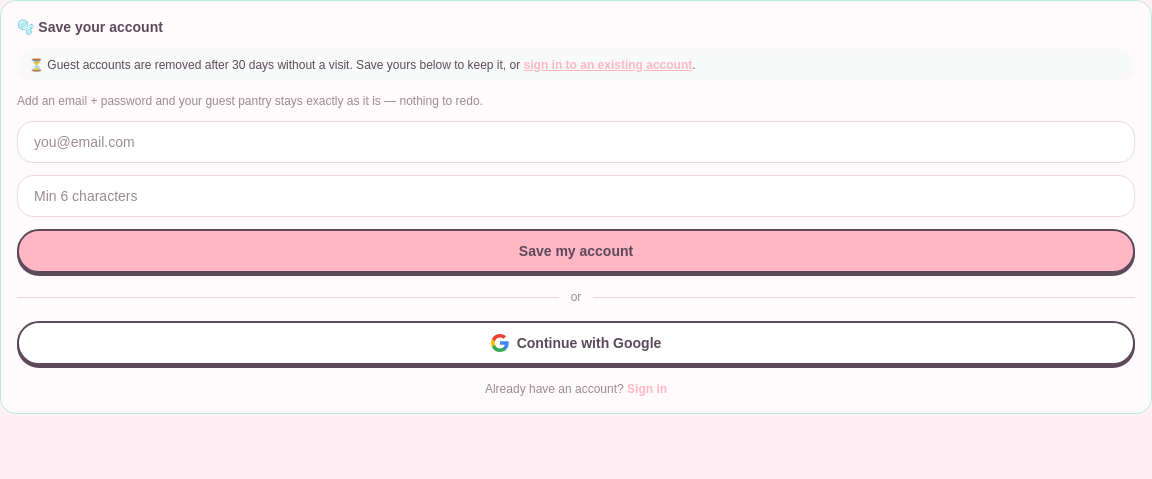
profile card: returning users (#588) › still shows other updateUser errors as-is
Type "me@example.com" into the field labelled "email". click: (576, 142)
box: [17, 121, 1135, 163]
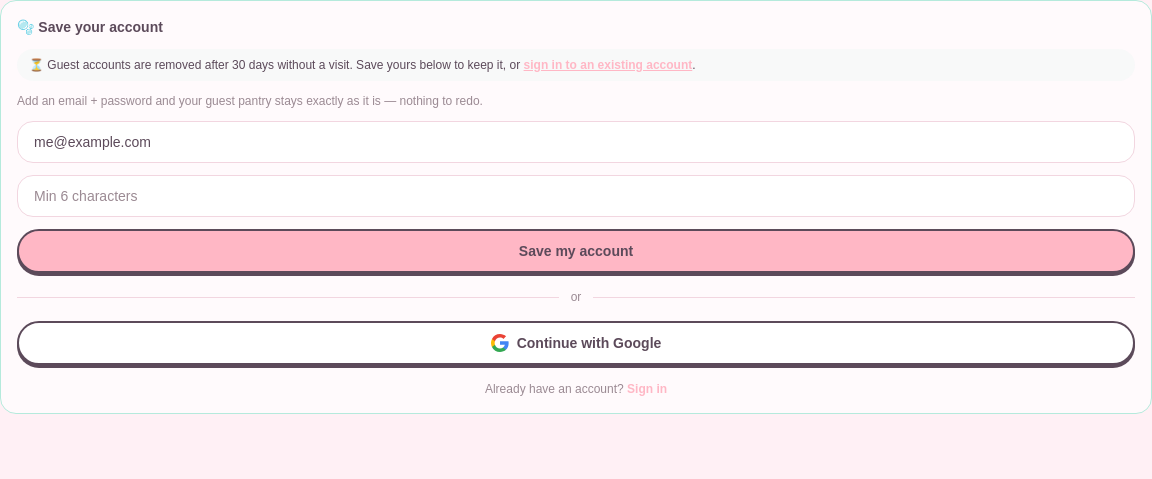
Type "secret123" into the password field named "Password". click: (576, 196)
box: [17, 175, 1135, 217]
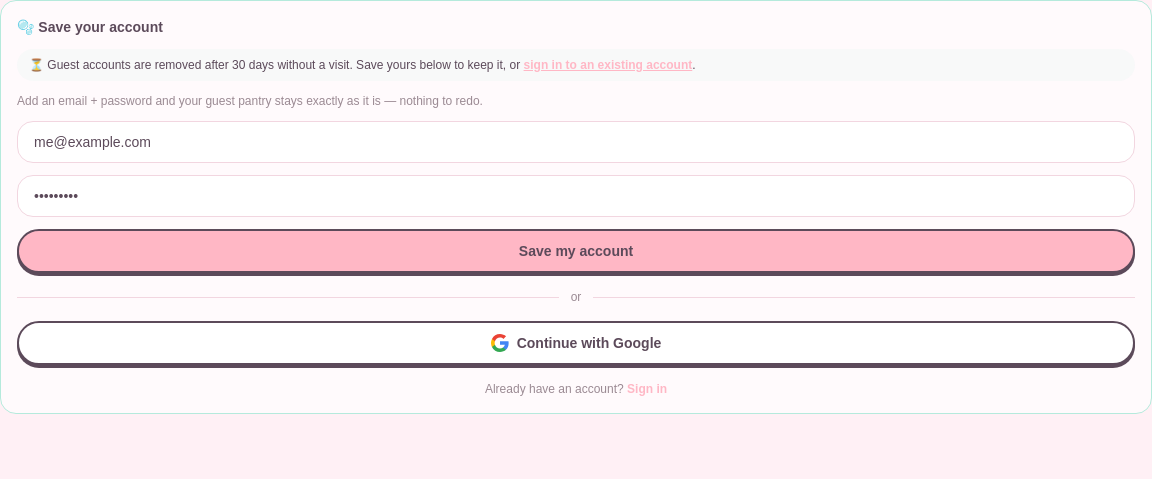
Click the button "Save my account". click: (576, 251)
box: [17, 229, 1135, 273]
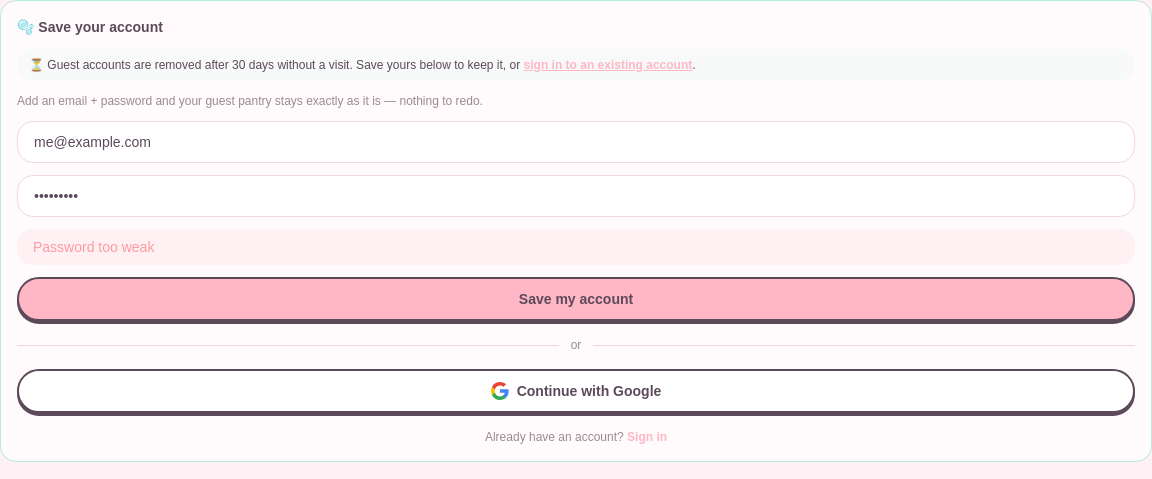
Expected: the text "Password too weak" is shown, [17, 229, 1135, 265]
